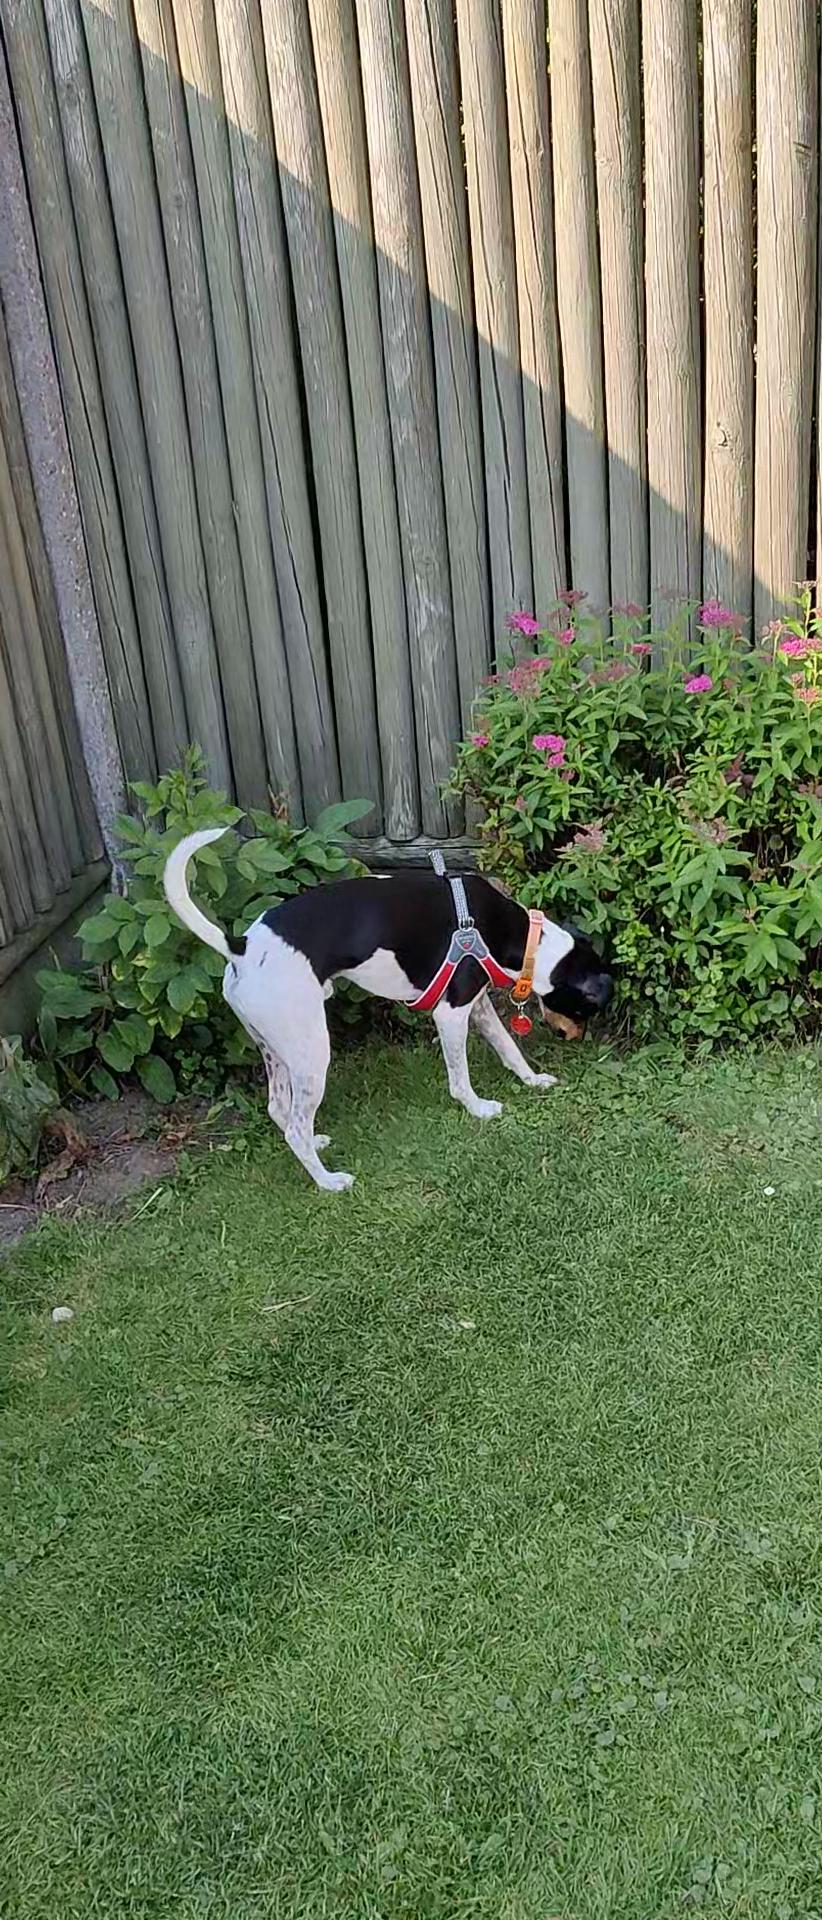Dog: (147, 811, 617, 1191)
